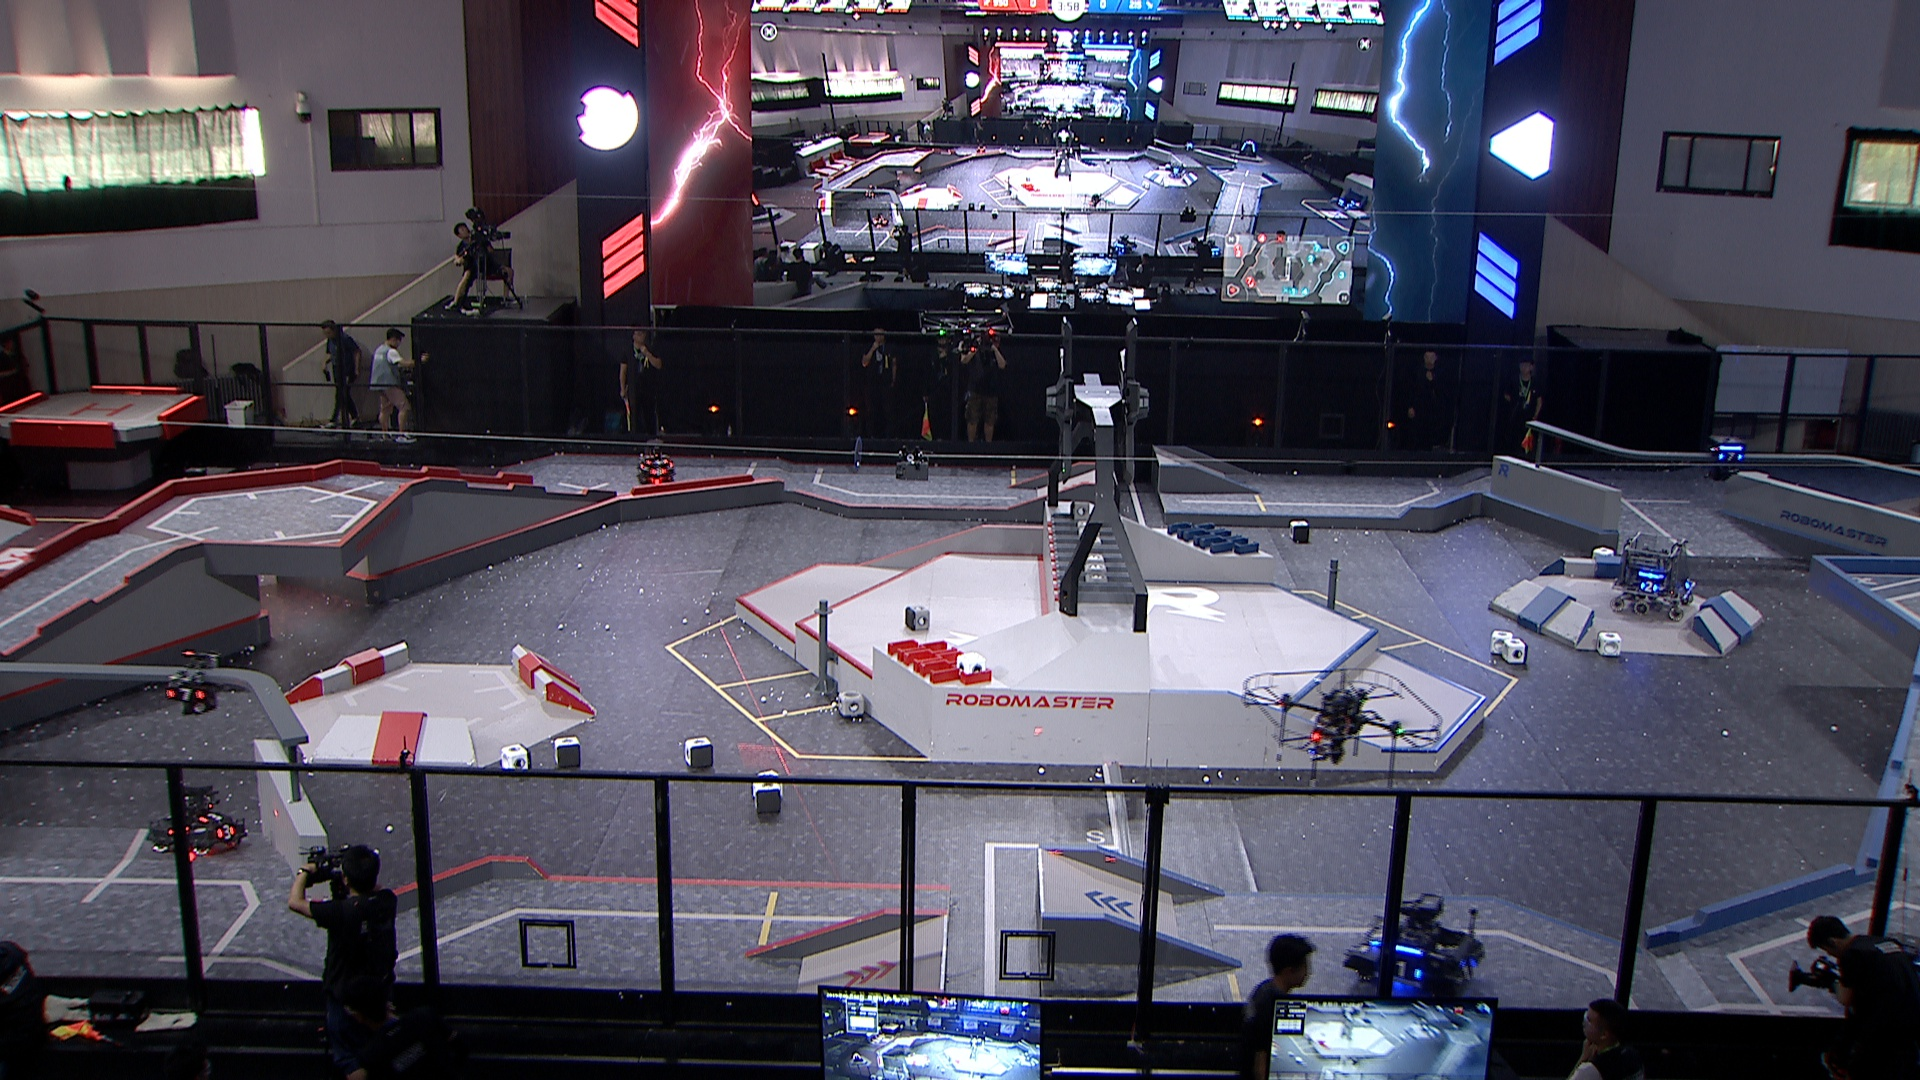armor: (1452, 959, 1481, 986), (1393, 960, 1424, 982), (166, 687, 206, 702), (196, 808, 229, 823), (215, 823, 237, 841), (1366, 926, 1382, 949), (1718, 450, 1745, 463), (1638, 580, 1662, 593), (647, 467, 667, 479), (646, 458, 670, 467)
car: (1349, 891, 1487, 998), (141, 778, 251, 858), (1611, 531, 1697, 622), (636, 439, 678, 487)
ignore: (1112, 233, 1135, 258), (1237, 140, 1259, 160), (752, 194, 769, 218), (1337, 196, 1362, 211), (1207, 239, 1222, 258), (870, 214, 889, 229), (1168, 162, 1187, 177), (864, 183, 878, 202), (1183, 142, 1196, 154)
watcher: (166, 647, 220, 716), (1705, 434, 1747, 484)
